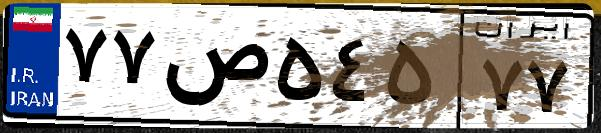4: (330, 28, 385, 110)
5: (270, 28, 330, 110), (385, 28, 445, 110)
7: (57, 26, 110, 100), (475, 38, 525, 113), (525, 38, 570, 115), (110, 28, 158, 98)
ص: (158, 20, 270, 120)
